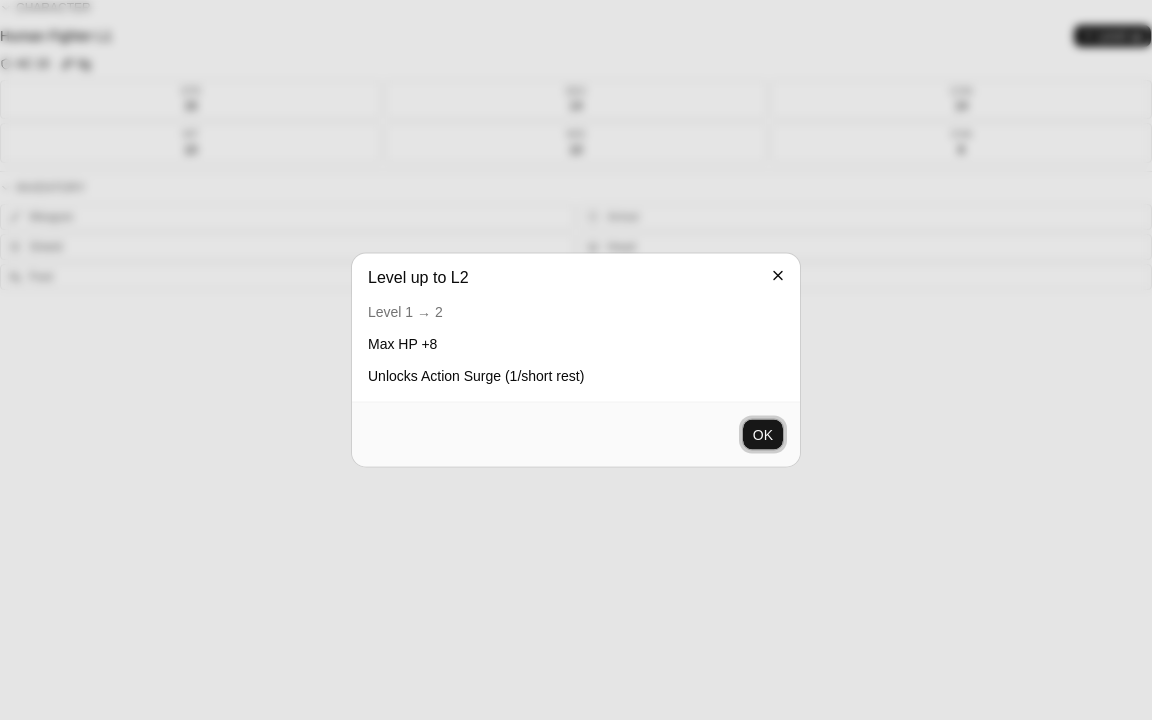
Scenario: PlayerStats — level-up integration › on API failure: store is not mutated and modal stays open with error
Click the button "OK". click: coordinates (763, 434)
box: top-left (742, 418), bottom-right (784, 450)
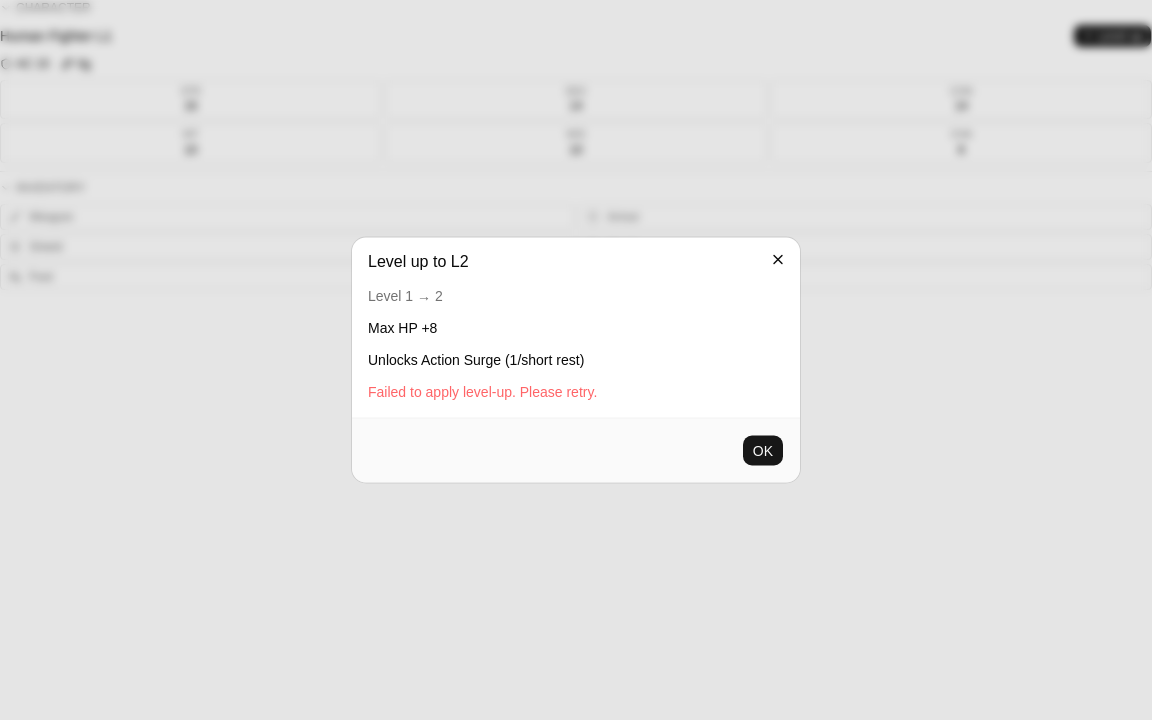
Check: the dialog with test id "level-up-modal" is shown, box top-left (352, 238), bottom-right (800, 482)
Check: the message "Failed to apply level-up. Please retry." is shown, box top-left (368, 384), bottom-right (597, 400)
